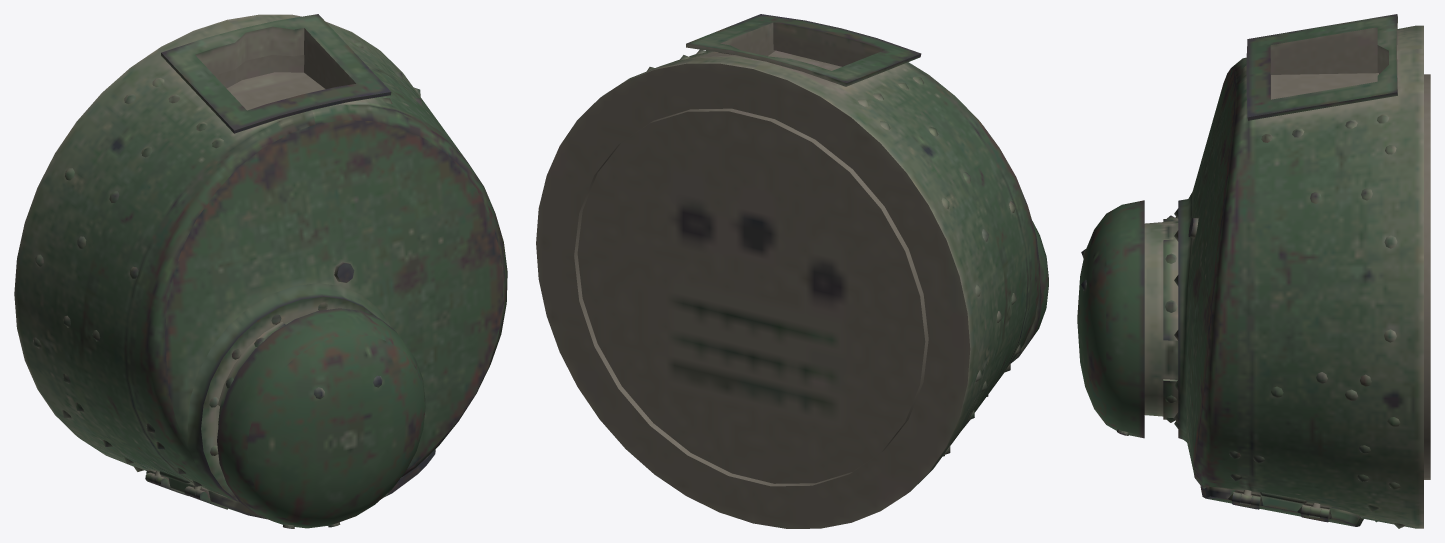
Rendered from Turret_02.glb.
3 renders of one model, left to right at view 1: azimuth 30°, elevation 25°; view 2: azimuth 150°, elevation 25°; view 3: azimuth 270°, elevation 25°, orthographic. The views are drawn at different scales.
Parts seen in each view (by area): view 1: set_0_group_0; view 2: set_0_group_0; view 3: set_0_group_0.
Boxes of the visible parts, x1,y1,x2,y2 form: set_0_group_0: [14, 14, 507, 528]; set_0_group_0: [536, 14, 1048, 528]; set_0_group_0: [1077, 14, 1430, 528].
Size of the model in its own units: 1.13 by 1.13 by 0.7934.
1 material, 1 textured.
